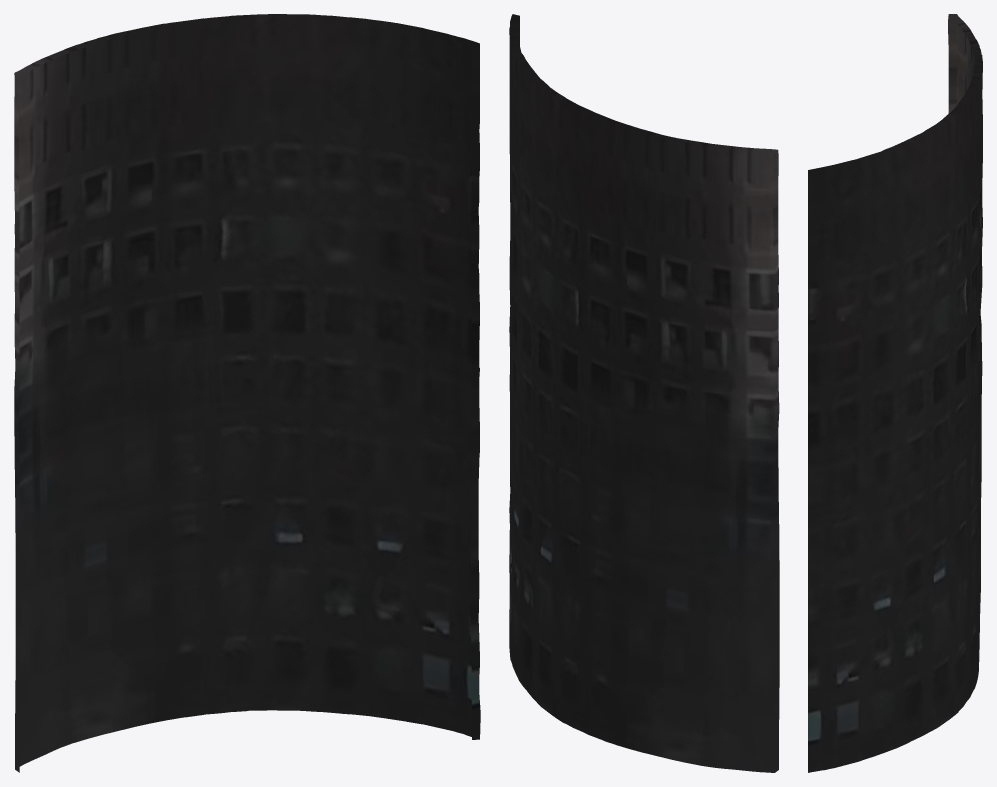
Rendered from z20-167776-405232-h1-yup-uvflip-v3-world.glb.
3 renders of one model, left to right at view 1: azimuth 30°, elevation 25°; view 2: azimuth 150°, elevation 25°; view 3: azimuth 270°, elevation 25°, orthographic. The views are drawn at different scales.
Size of the model in its own units: 22.48 by 39.32 by 10.4.
Materials: 1 (1 with a texture image).
